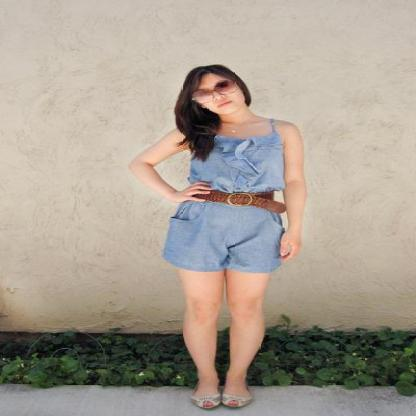dress: (162, 134, 284, 272)
shoe: (200, 394, 236, 410)
